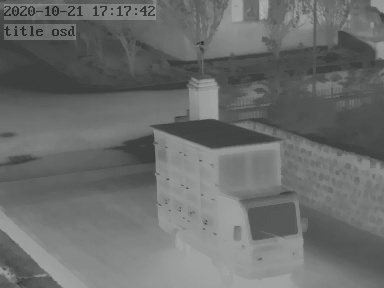vehicle: (158, 108, 306, 270)
